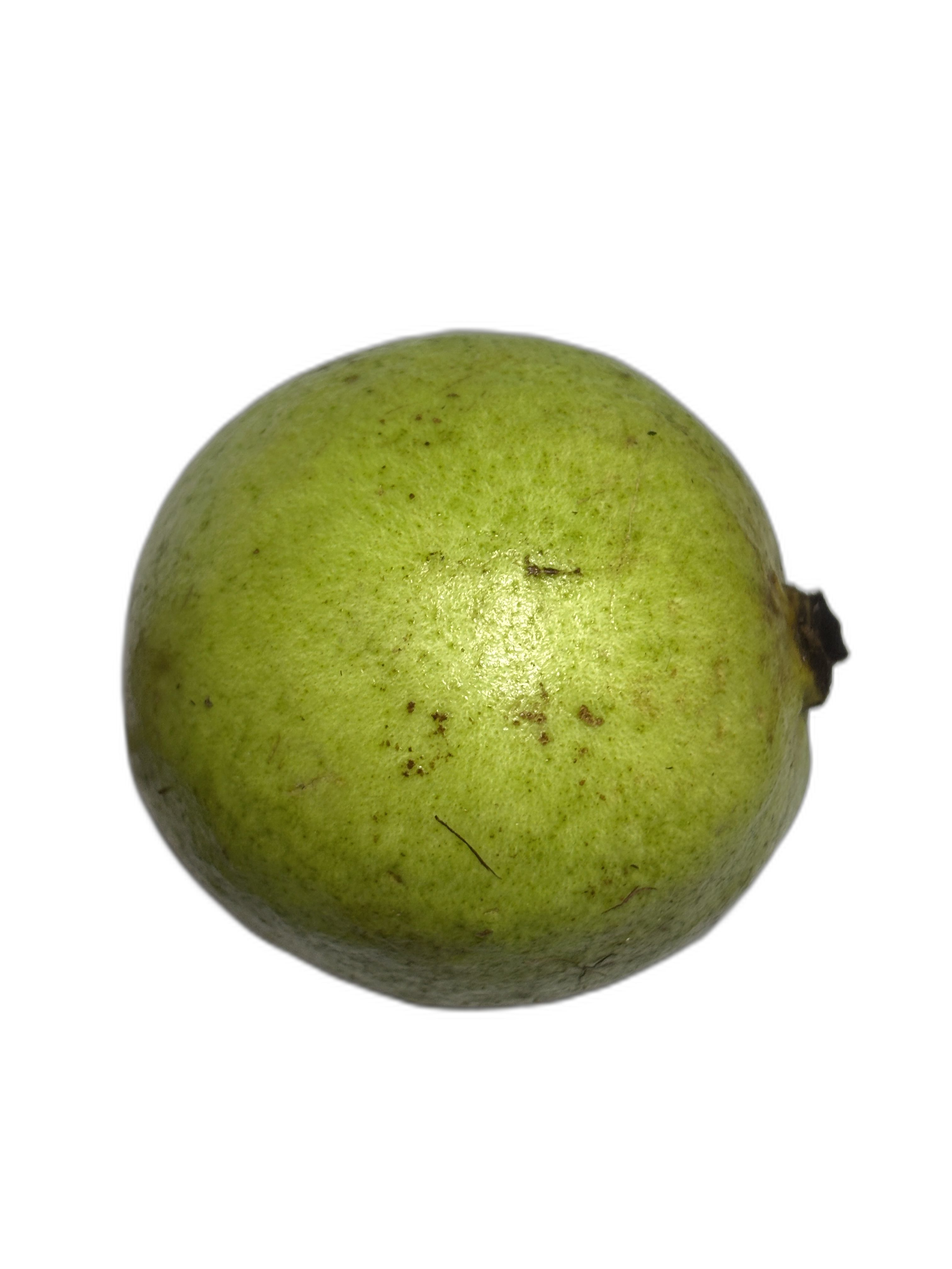guava: (128, 36, 952, 1041)
